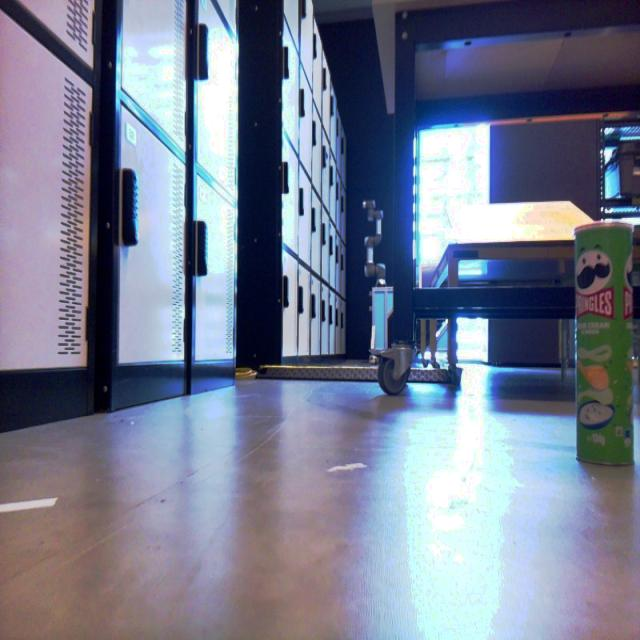greenpringles: (554, 220, 640, 503)
